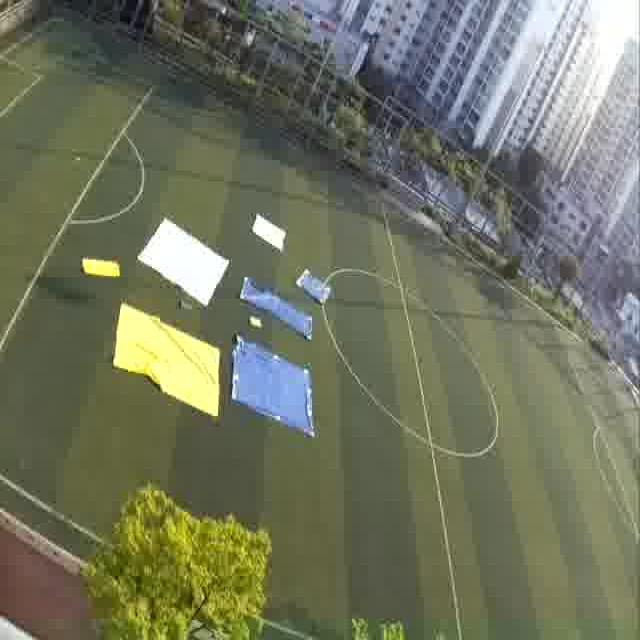danger: (234, 363, 312, 419), (241, 274, 288, 312), (300, 272, 328, 300)
safety: (152, 232, 223, 294), (256, 218, 288, 254)
warning: (119, 330, 221, 404), (84, 256, 124, 280)
